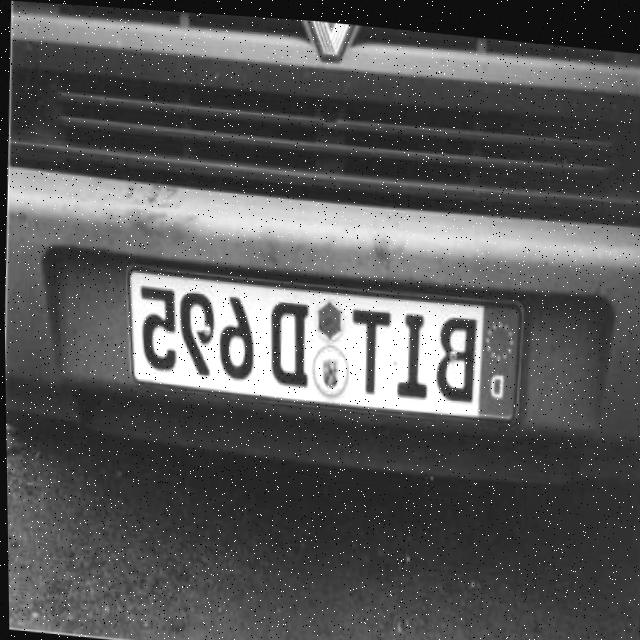license-plates: (128, 270, 521, 421)
